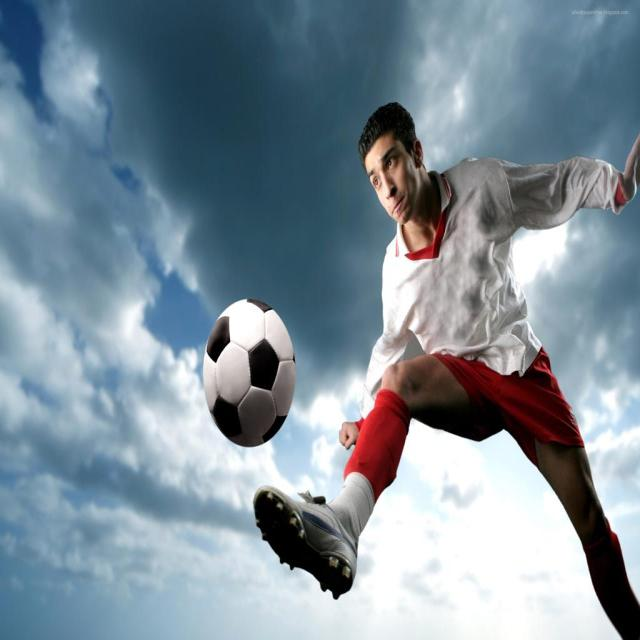Face: (364, 133, 421, 227)
